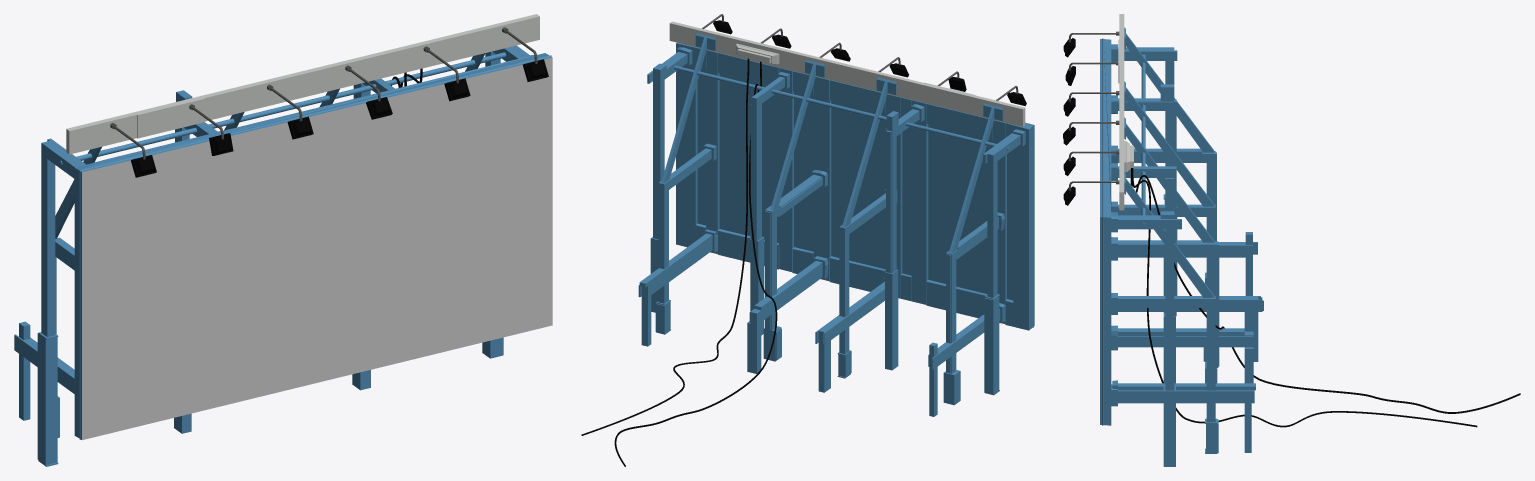
The model's file is Billboard 03.obj.
3 renders of one model, left to right at view 1: azimuth 30°, elevation 25°; view 2: azimuth 150°, elevation 25°; view 3: azimuth 270°, elevation 25°, orthographic. The views are drawn at different scales.
Parts seen in each view (by area): view 1: Billboard_Billboard_Billboard_space, Billboard_Billboard_White, Billboard_Billboard_stand_1, Billboard_Billboard_stand_2, Billboard_Billboard_Black, Billboard_Billboard_Silver; view 2: Billboard_Billboard_stand_1, Billboard_Billboard_stand_2, Billboard_Billboard_White, Billboard_Billboard_Black, Billboard_Billboard_Silver; view 3: Billboard_Billboard_stand_1, Billboard_Billboard_stand_2, Billboard_Billboard_Black, Billboard_Billboard_White, Billboard_Billboard_Silver.
Boxes of the visible parts, x1,y1,x2,y2 form: Billboard_Billboard_Billboard_space: (82, 57, 552, 440); Billboard_Billboard_White: (66, 14, 539, 154); Billboard_Billboard_stand_1: (14, 52, 552, 439); Billboard_Billboard_stand_2: (37, 45, 534, 466); Billboard_Billboard_Black: (131, 59, 548, 177); Billboard_Billboard_Silver: (110, 27, 537, 159); Billboard_Billboard_stand_1: (674, 42, 1034, 416); Billboard_Billboard_stand_2: (638, 33, 1025, 395); Billboard_Billboard_White: (669, 21, 1025, 126); Billboard_Billboard_Black: (581, 20, 1026, 466); Billboard_Billboard_Silver: (702, 14, 1018, 100); Billboard_Billboard_stand_1: (1100, 27, 1263, 425); Billboard_Billboard_stand_2: (1111, 44, 1255, 466); Billboard_Billboard_Black: (1063, 38, 1520, 427); Billboard_Billboard_White: (1118, 14, 1133, 210); Billboard_Billboard_Silver: (1068, 31, 1119, 190).
Bounding box in the file's own units: 16.98 × 12.3 × 18.38.
